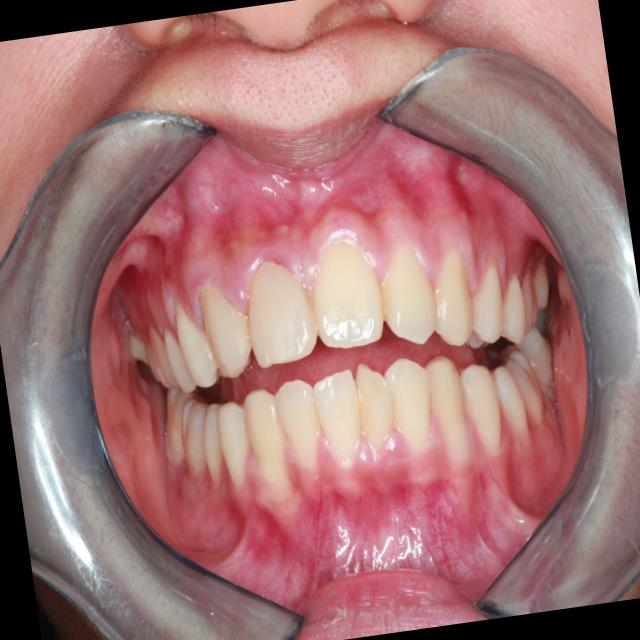tooth: (226, 229, 333, 387), (290, 218, 403, 365), (368, 228, 451, 366), (187, 263, 269, 397), (261, 368, 341, 486), (376, 345, 448, 476), (343, 348, 412, 474), (306, 361, 375, 487), (453, 349, 524, 470), (166, 291, 237, 403), (419, 344, 480, 472), (235, 379, 301, 495), (422, 240, 483, 358), (209, 393, 264, 504), (497, 336, 553, 440), (462, 250, 516, 354), (173, 391, 220, 502), (486, 358, 539, 455), (157, 315, 206, 409), (192, 395, 238, 493), (514, 324, 562, 407), (493, 264, 534, 355), (157, 376, 194, 470), (509, 253, 546, 343), (145, 311, 181, 394), (525, 251, 559, 319), (124, 322, 151, 370), (141, 331, 162, 386), (532, 304, 551, 338)
